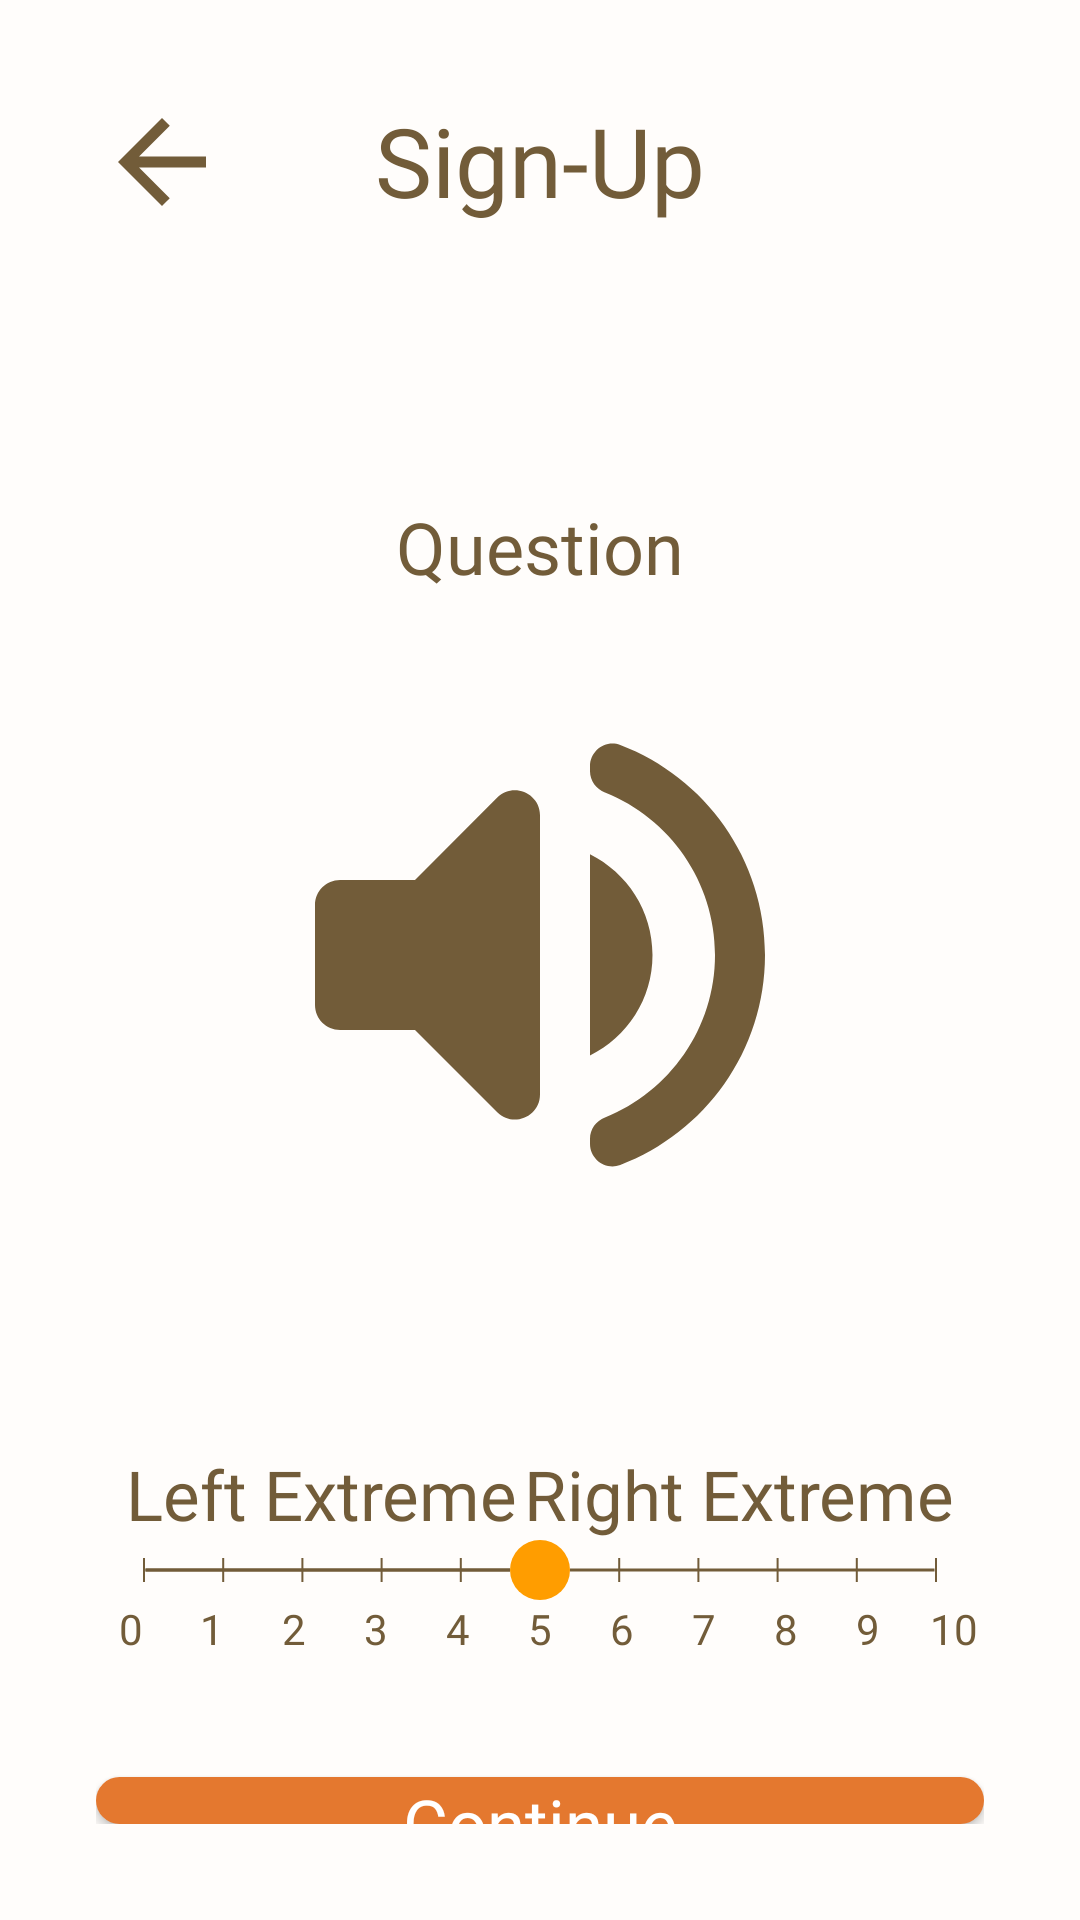

Icon click points for this 1080x1920 phone screenshot, format (x,y):
first questionnaire arrow back: (162,162)
